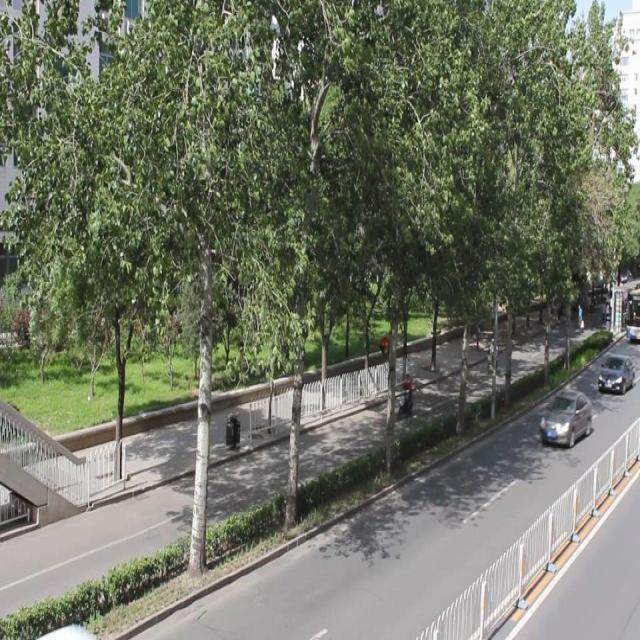car: (539, 387, 591, 450), (596, 350, 640, 393)
